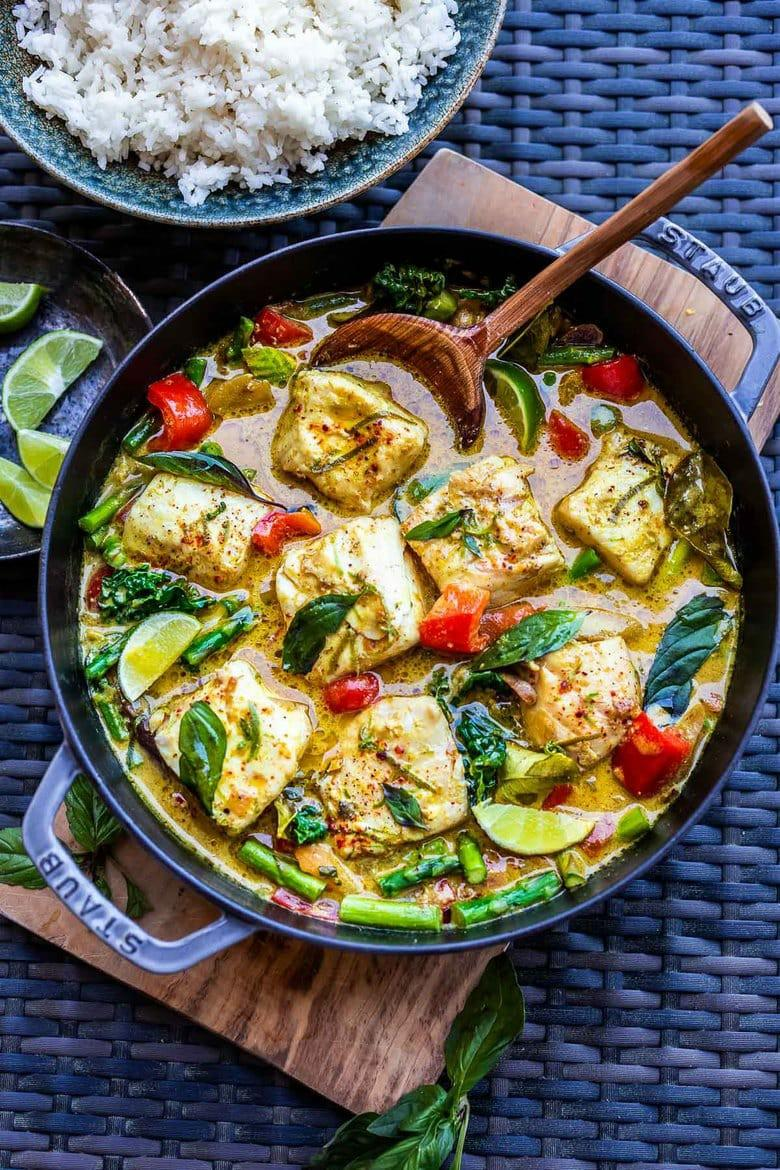FishCurry: (88, 268, 735, 928)
WhiteRice: (14, 0, 469, 199)
